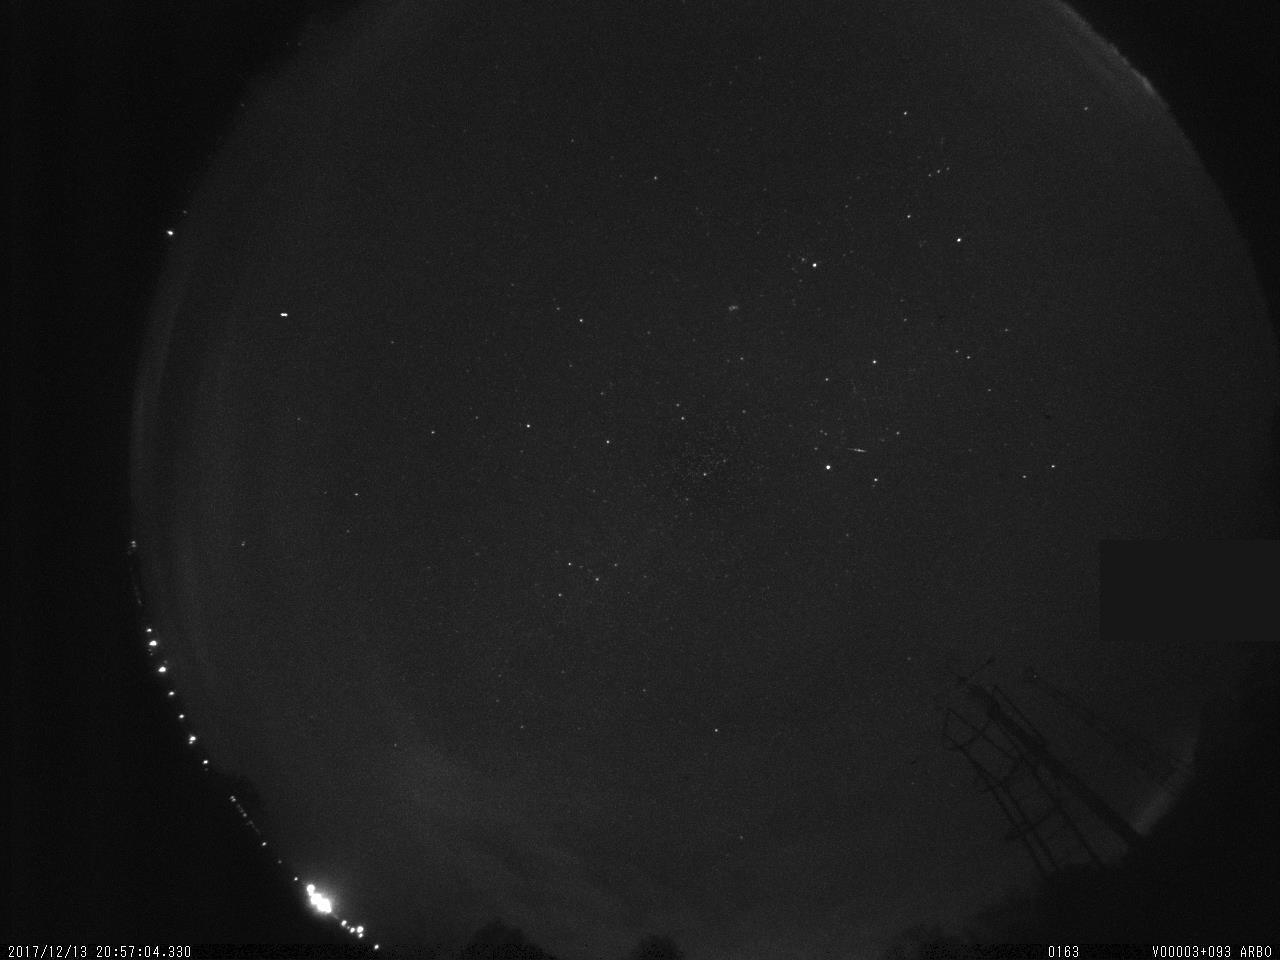Meteor: (845, 443, 870, 456)
